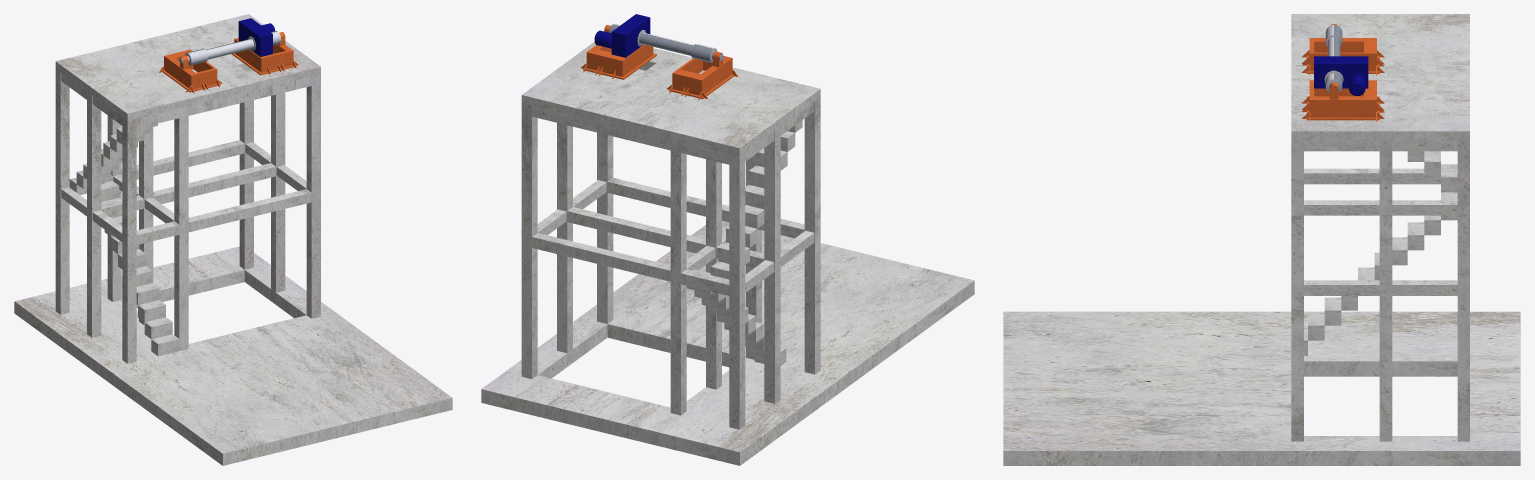
The model's file is zhashi.obj.
3 renders of one model, left to right at view 1: azimuth 30°, elevation 25°; view 2: azimuth 150°, elevation 25°; view 3: azimuth 270°, elevation 25°, orthographic. The views are drawn at different scales.
Visible parts, largest first — view 1: Rectangle027, Rectangle003, Rectangle021, Box010, Rectangle018, Box011, Line003, Cylinder001, Line005, Box016; view 2: Rectangle027, Rectangle003, Rectangle021, Rectangle018, Box011, Rectangle013, Box010, Line003, Line005, Cylinder001, Box016; view 3: Rectangle027, Rectangle021, Rectangle003, Rectangle018, Box010, Line005, Rectangle019, Box016, Line003, Box011, Cylinder001.
Boxes of the visible parts, bbox=[...] form: Rectangle027: bbox=[14, 246, 452, 465]; Rectangle003: bbox=[55, 69, 320, 363]; Rectangle021: bbox=[55, 14, 320, 120]; Box010: bbox=[101, 181, 179, 356]; Rectangle018: bbox=[61, 142, 306, 241]; Box011: bbox=[69, 114, 157, 195]; Line003: bbox=[164, 49, 217, 89]; Cylinder001: bbox=[179, 31, 281, 65]; Line005: bbox=[234, 38, 293, 72]; Box016: bbox=[238, 18, 272, 56]; Rectangle027: bbox=[481, 220, 974, 465]; Rectangle003: bbox=[521, 67, 820, 429]; Rectangle021: bbox=[521, 42, 820, 156]; Rectangle018: bbox=[537, 180, 814, 297]; Box011: bbox=[710, 120, 802, 279]; Rectangle013: bbox=[521, 103, 744, 166]; Box010: bbox=[686, 269, 786, 365]; Line003: bbox=[672, 56, 732, 95]; Line005: bbox=[586, 44, 653, 76]; Cylinder001: bbox=[609, 23, 723, 62]; Box016: bbox=[611, 14, 650, 57]; Rectangle027: bbox=[1003, 311, 1520, 465]; Rectangle021: bbox=[1291, 14, 1469, 140]; Rectangle003: bbox=[1291, 140, 1469, 441]; Rectangle018: bbox=[1304, 168, 1457, 295]; Box010: bbox=[1304, 192, 1457, 355]; Line005: bbox=[1309, 80, 1376, 117]; Rectangle019: bbox=[1304, 140, 1457, 151]; Box016: bbox=[1314, 56, 1368, 88]; Line003: bbox=[1309, 38, 1376, 71]; Box011: bbox=[1407, 151, 1457, 192]; Cylinder001: bbox=[1324, 25, 1343, 92].
Bounding box in the file's own units: 3.96 × 4.9 × 6.22.
4 materials, 3 textured.
